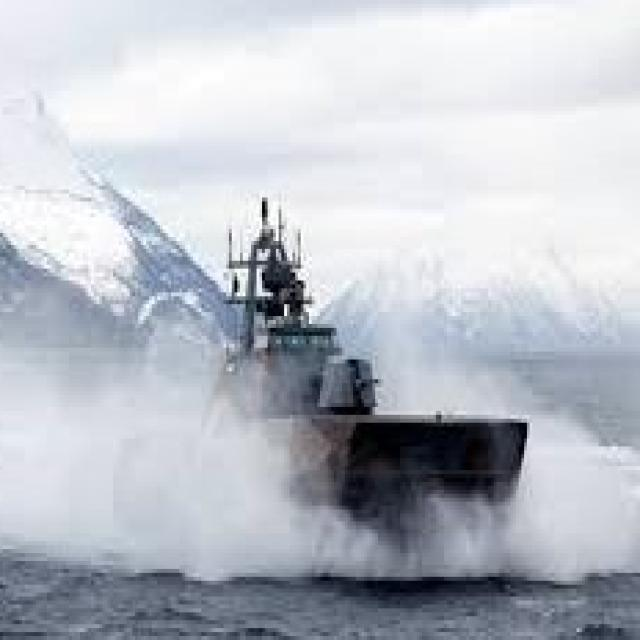navalvessels: (118, 137, 537, 541)
